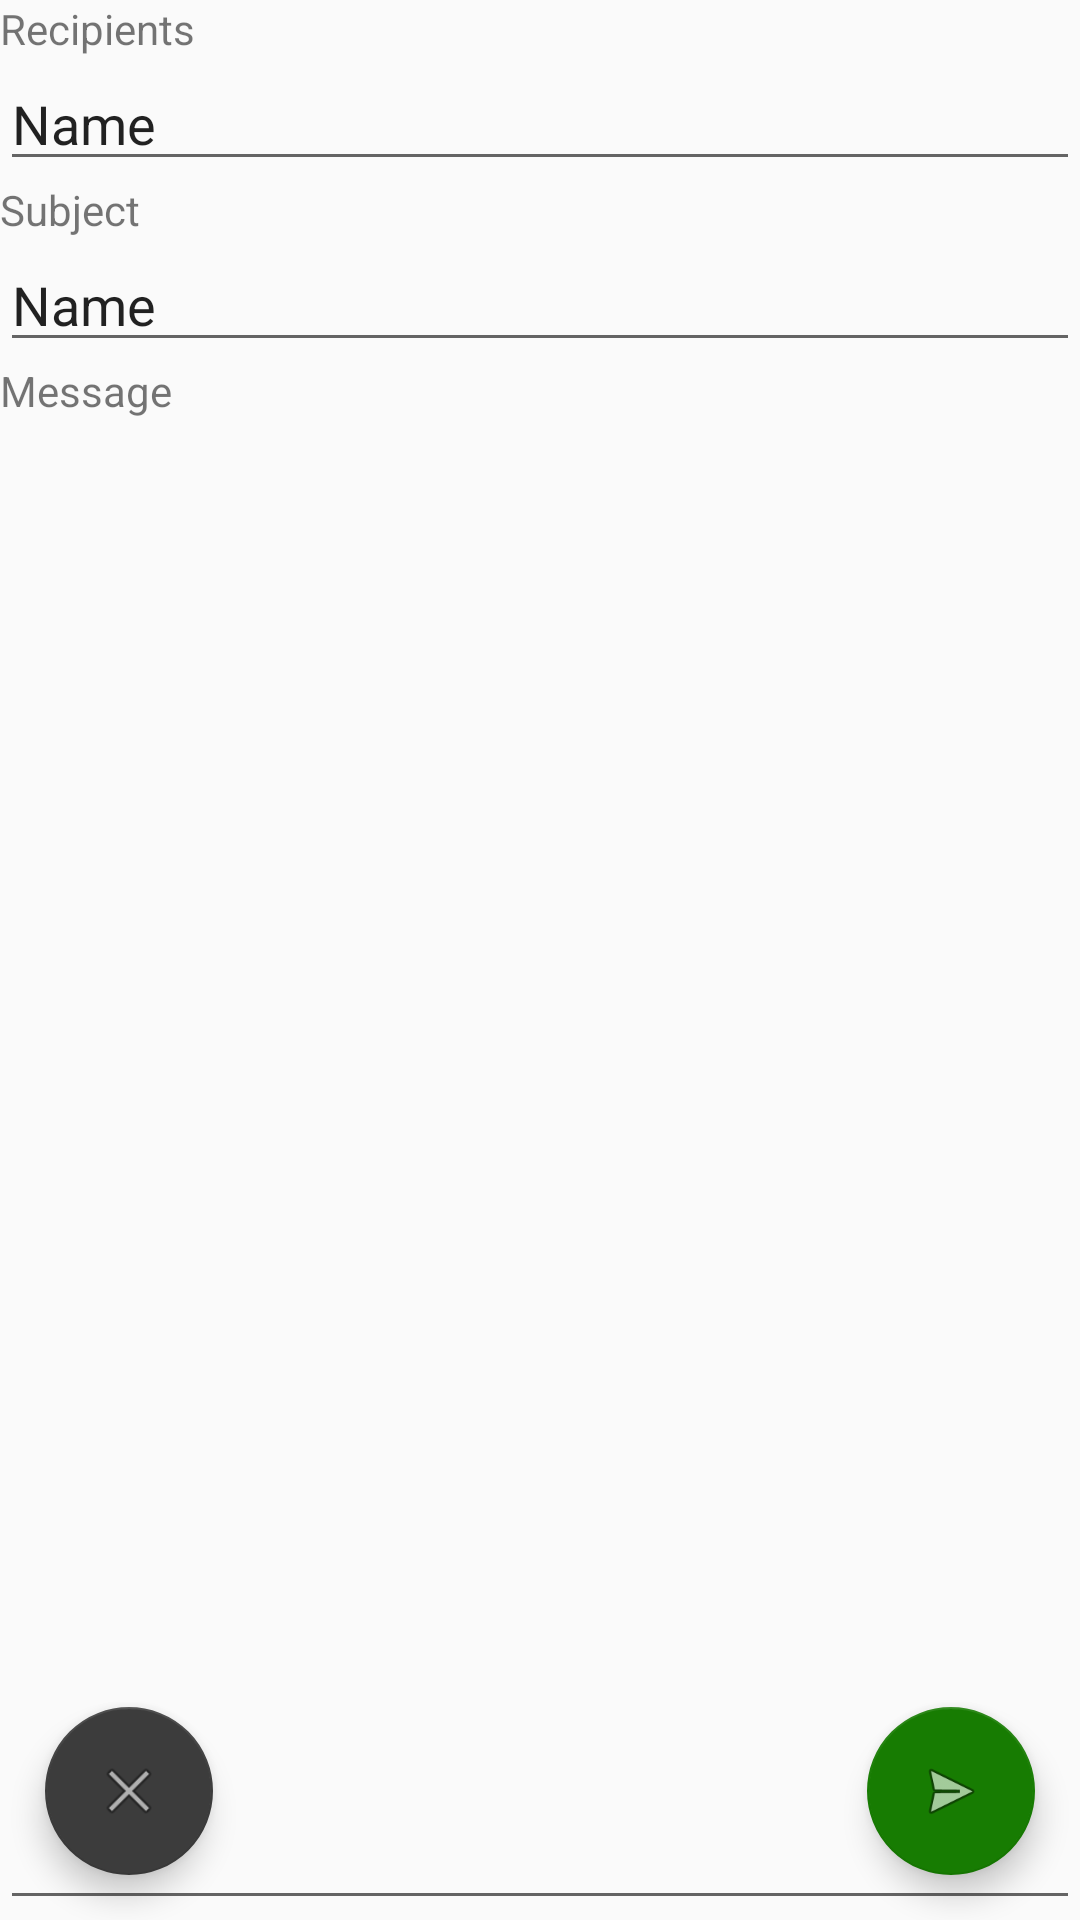

Locate icon controls on the screen. Image size 1080w x 1920h, boxes as (x1, y1, x2, y2).
close clear cancel: (45, 1707, 213, 1875)
send: (867, 1707, 1035, 1875)
